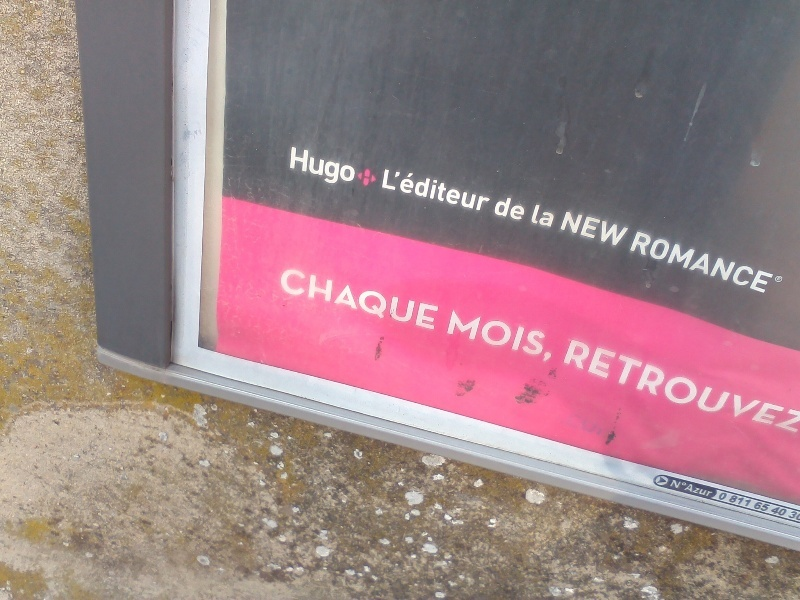text: (577, 336, 592, 440), (593, 336, 608, 440), (609, 336, 624, 440), (625, 336, 640, 440), (641, 336, 656, 440), (657, 336, 672, 440), (673, 336, 688, 440), (689, 336, 704, 440), (705, 336, 720, 440), (721, 336, 736, 440), (737, 336, 752, 440), (753, 336, 768, 440), (769, 336, 784, 440), (785, 336, 800, 440), (289, 266, 304, 333), (305, 266, 320, 333), (321, 266, 336, 333), (337, 266, 352, 333), (353, 266, 368, 333), (369, 266, 384, 333), (385, 266, 400, 333), (401, 266, 416, 333), (417, 266, 432, 333), (641, 230, 656, 295), (657, 230, 672, 295), (673, 230, 688, 295), (689, 230, 704, 295), (705, 230, 720, 295), (721, 230, 736, 295), (737, 230, 752, 295), (753, 230, 768, 295), (545, 308, 561, 365), (465, 308, 480, 365), (481, 308, 496, 365), (497, 308, 512, 365), (513, 308, 528, 365), (529, 308, 544, 365), (451, 308, 464, 365), (569, 336, 576, 440), (385, 166, 400, 213), (401, 166, 416, 213), (417, 166, 432, 213), (433, 166, 448, 213), (449, 166, 464, 213), (465, 166, 480, 213), (305, 144, 320, 188), (321, 144, 336, 188), (337, 144, 352, 188), (481, 166, 495, 213), (290, 144, 304, 188), (577, 209, 592, 250), (593, 209, 608, 250), (609, 209, 624, 250), (280, 266, 288, 333), (433, 266, 440, 333), (769, 230, 776, 295), (513, 195, 529, 221), (567, 209, 576, 250), (499, 195, 512, 221), (673, 477, 688, 499), (689, 477, 704, 499), (545, 203, 556, 228), (636, 230, 640, 295), (737, 494, 752, 509), (705, 477, 715, 499), (625, 209, 630, 250), (536, 203, 544, 228), (721, 492, 736, 502), (756, 501, 768, 513), (353, 144, 356, 188), (774, 505, 784, 518), (792, 510, 800, 522), (731, 494, 736, 509), (785, 505, 789, 518), (778, 276, 784, 284), (769, 501, 771, 513), (753, 494, 754, 509)
